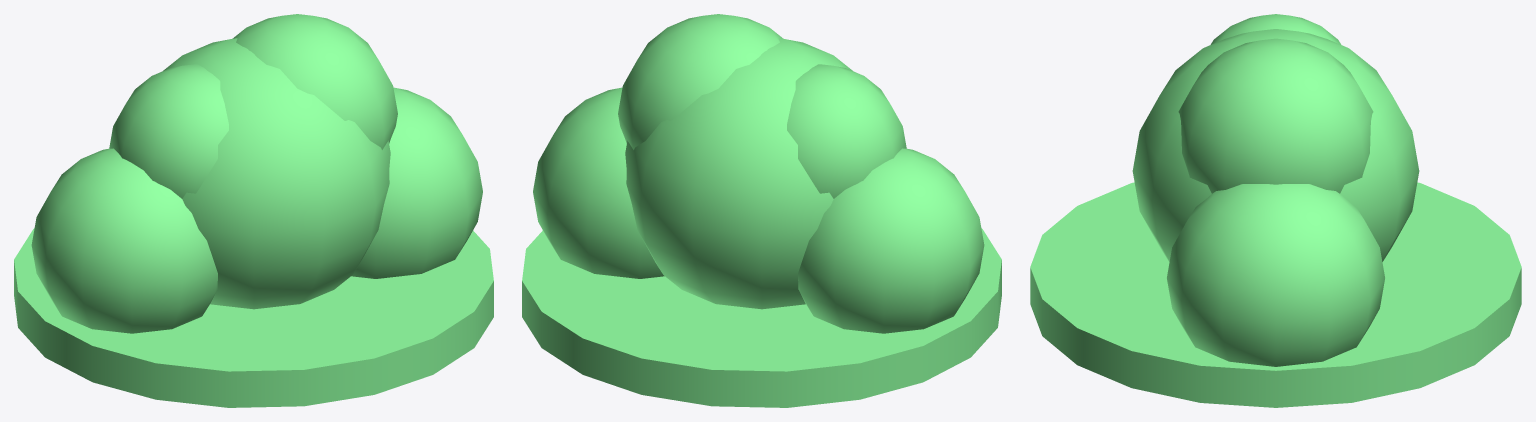
Rendered from cloud.glb.
3 renders of one model, left to right at view 1: azimuth 30°, elevation 25°; view 2: azimuth 150°, elevation 25°; view 3: azimuth 270°, elevation 25°, orthographic.
Parts seen in each view (by area): view 1: puff (×5), base; view 2: puff (×5), base; view 3: puff (×4), base.
Part boxes in pixels (box(x1,y1,x2,y2)): puff (×5): box(31, 14, 482, 333); base: box(14, 228, 493, 407); puff (×5): box(533, 14, 984, 333); base: box(522, 228, 1001, 407); puff (×4): box(1132, 14, 1419, 366); base: box(1030, 182, 1521, 407).
Size of the model in its own units: 1.46 by 0.94 by 1.44.
